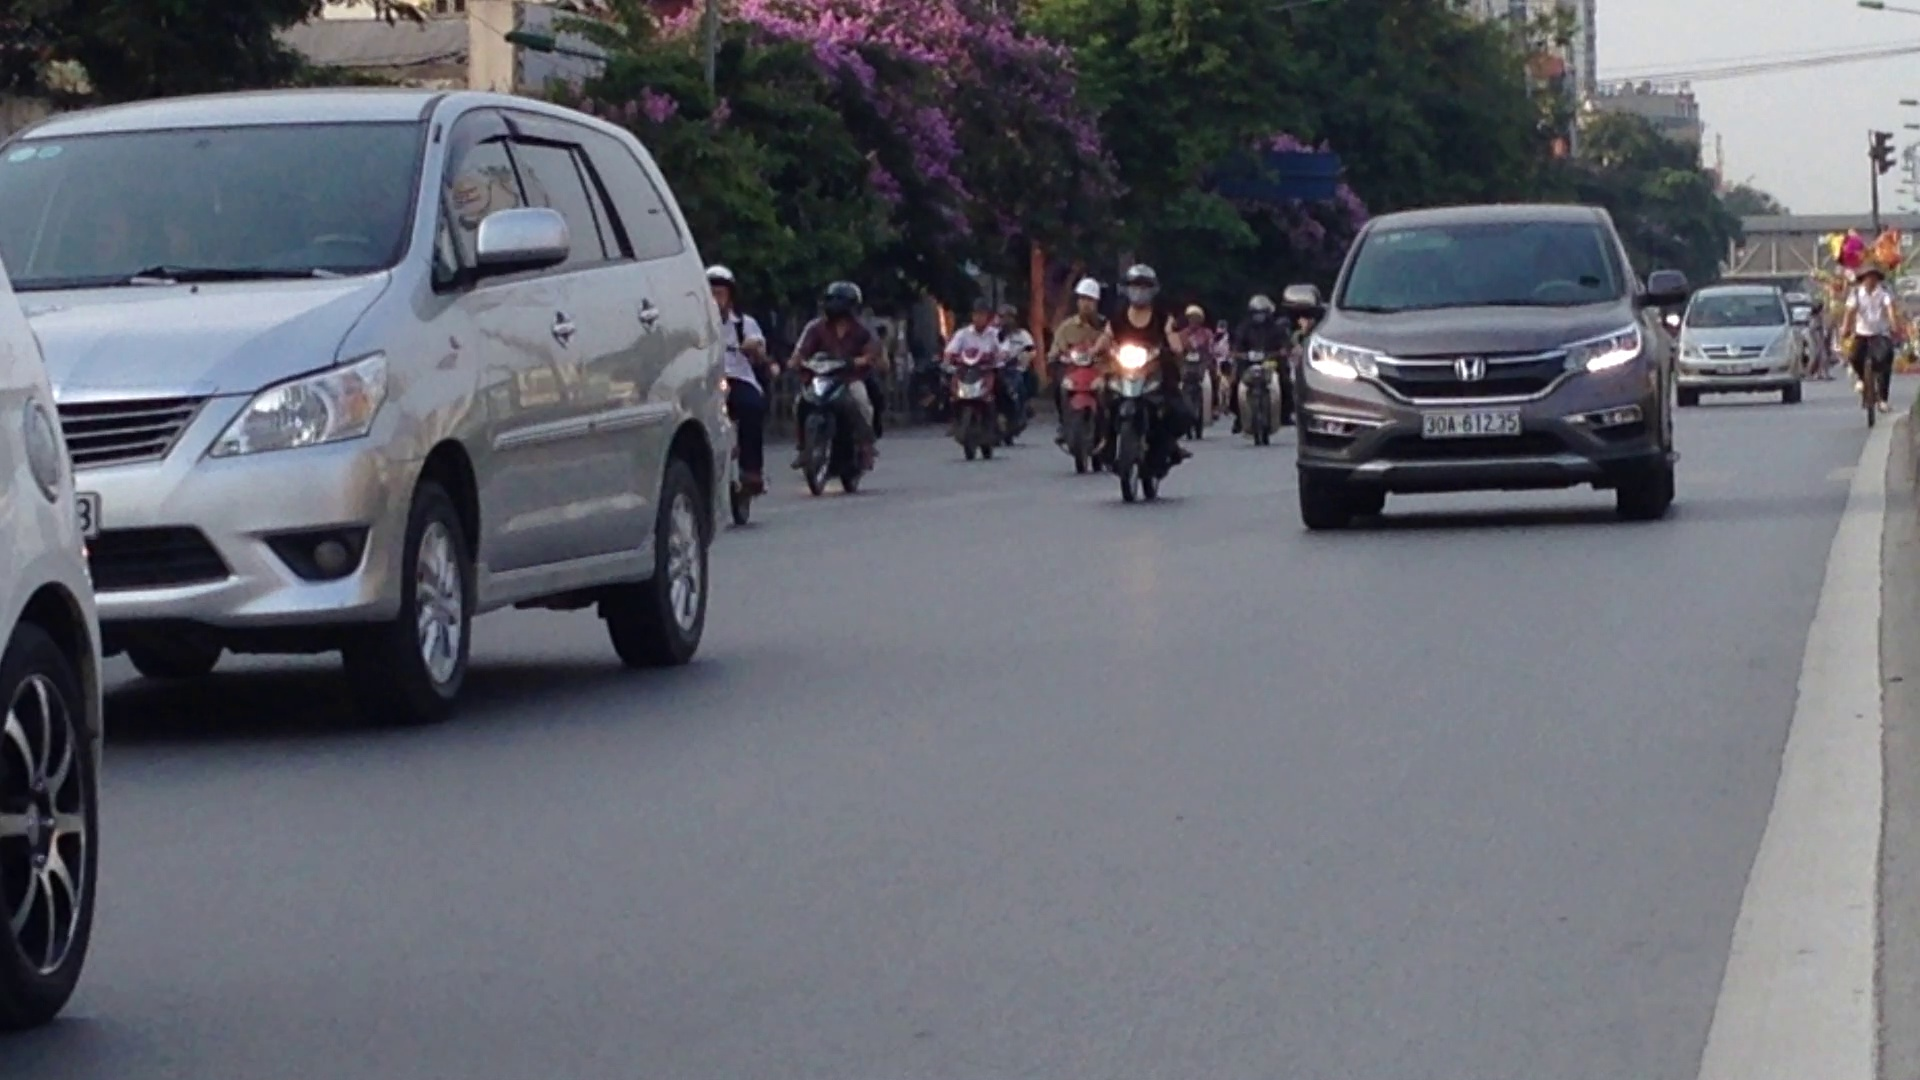person: (1418, 405, 1521, 439)
